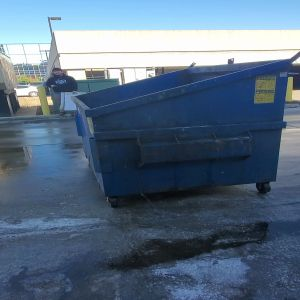Dumpster: (75, 60, 294, 209)
Person: (48, 66, 77, 92)
